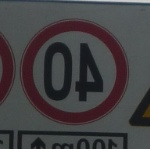Speed limit: (17, 12, 131, 131)
